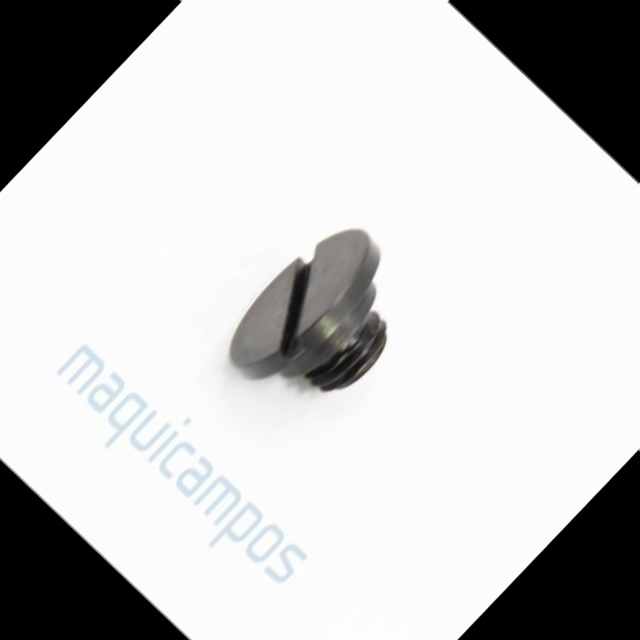duz: (208, 204, 403, 403)
